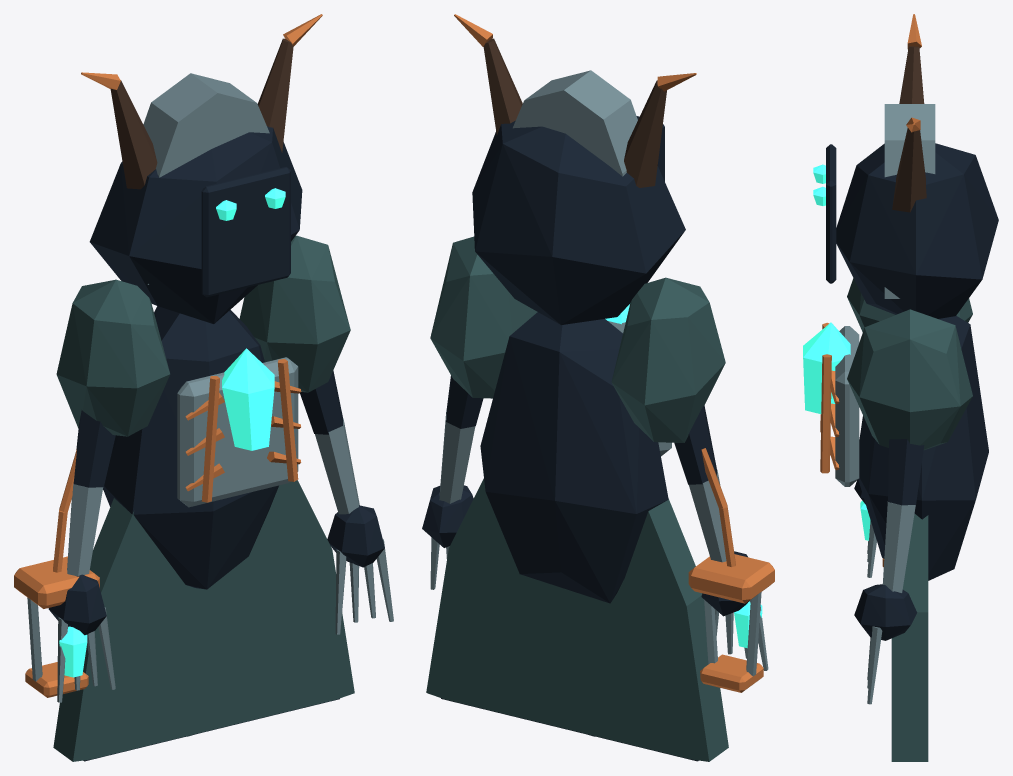
Rendered from Lantern_Wraith.gltf.
3 renders of one model, left to right at view 1: azimuth 30°, elevation 25°; view 2: azimuth 150°, elevation 25°; view 3: azimuth 270°, elevation 25°, orthographic. The views are drawn at different scales.
Visible parts, largest first — view 1: Robe_Front_Mesh, Sleeve_Mesh (×2), Robe_Core_Mesh, Cowl_Mesh, Face_Void_Mesh, Chest_Cage_Mesh, Hood_Opening_Mesh, Hood_Horn_Mesh (×2), Thin_Forearm_Mesh (×2), Palm_Mesh (×2), Captured_Flame_Mesh, Long_Arm_Mesh (×2) (+6 smaller); view 2: Robe_Front_Mesh, Robe_Core_Mesh, Cowl_Mesh, Sleeve_Mesh (×2), Hood_Opening_Mesh, Hood_Horn_Mesh (×2), Thin_Forearm_Mesh (×2), Long_Arm_Mesh (×2), Lantern_Top_Mesh, Palm_Mesh, Lantern_Base_Mesh, Lantern_Frame_Mesh (×2); view 3: Cowl_Mesh, Sleeve_Mesh (×2), Robe_Core_Mesh, Robe_Front_Mesh, Hood_Horn_Mesh (×2), Chest_Cage_Mesh, Hood_Opening_Mesh, Palm_Mesh, Captured_Flame_Mesh, Thin_Forearm_Mesh, Long_Arm_Mesh, Face_Void_Mesh (+2 smaller).
Part boxes in pixels (<box>): Robe_Front_Mesh: <box>53,480,354,761</box>; Sleeve_Mesh (×2): <box>56,235,350,436</box>; Robe_Core_Mesh: <box>103,306,278,589</box>; Cowl_Mesh: <box>89,126,302,323</box>; Face_Void_Mesh: <box>201,167,290,297</box>; Chest_Cage_Mesh: <box>177,357,298,507</box>; Hood_Opening_Mesh: <box>143,73,269,284</box>; Hood_Horn_Mesh (×2): <box>110,38,293,189</box>; Thin_Forearm_Mesh (×2): <box>67,418,359,576</box>; Palm_Mesh (×2): <box>48,505,384,635</box>; Captured_Flame_Mesh: <box>222,348,274,450</box>; Long_Arm_Mesh (×2): <box>73,370,342,489</box>; Robe_Front_Mesh: <box>426,478,728,761</box>; Robe_Core_Mesh: <box>480,312,668,603</box>; Cowl_Mesh: <box>472,120,685,324</box>; Sleeve_Mesh (×2): <box>430,236,725,442</box>; Hood_Opening_Mesh: <box>513,70,637,176</box>; Hood_Horn_Mesh (×2): <box>483,38,666,187</box>; Thin_Forearm_Mesh (×2): <box>439,410,726,562</box>; Long_Arm_Mesh (×2): <box>446,376,716,484</box>; Lantern_Top_Mesh: <box>688,554,774,603</box>; Palm_Mesh: <box>422,485,473,547</box>; Lantern_Base_Mesh: <box>700,654,763,692</box>; Lantern_Frame_Mesh (×2): <box>704,592,761,676</box>; Cowl_Mesh: <box>836,143,998,318</box>; Sleeve_Mesh (×2): <box>847,278,972,450</box>; Robe_Core_Mesh: <box>858,315,988,580</box>; Robe_Front_Mesh: <box>891,513,928,761</box>; Hood_Horn_Mesh (×2): <box>892,46,926,212</box>; Chest_Cage_Mesh: <box>835,326,859,486</box>; Hood_Opening_Mesh: <box>884,104,935,298</box>; Palm_Mesh: <box>854,584,917,640</box>; Captured_Flame_Mesh: <box>803,322,850,413</box>; Thin_Forearm_Mesh: <box>882,501,915,592</box>; Long_Arm_Mesh: <box>888,439,924,505</box>; Face_Void_Mesh: <box>826,144,836,283</box>.
Size of the model in its own units: 1.86 by 3.46 by 0.9682.
